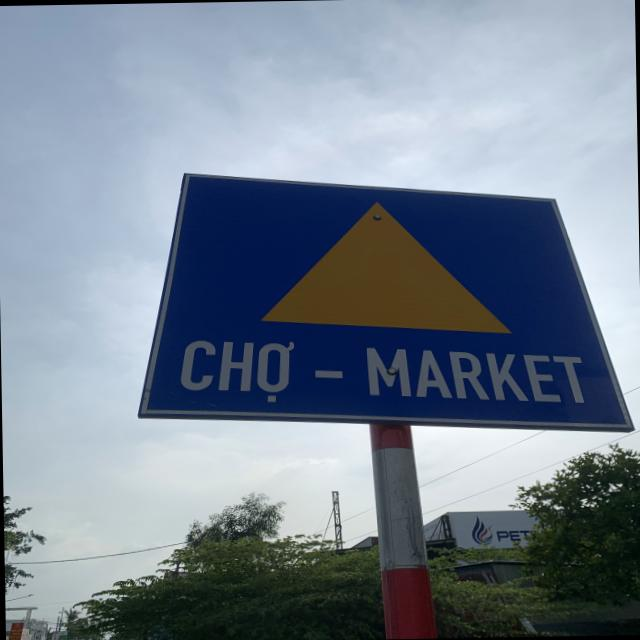Cho_Quay_Xe: (137, 166, 632, 438)
